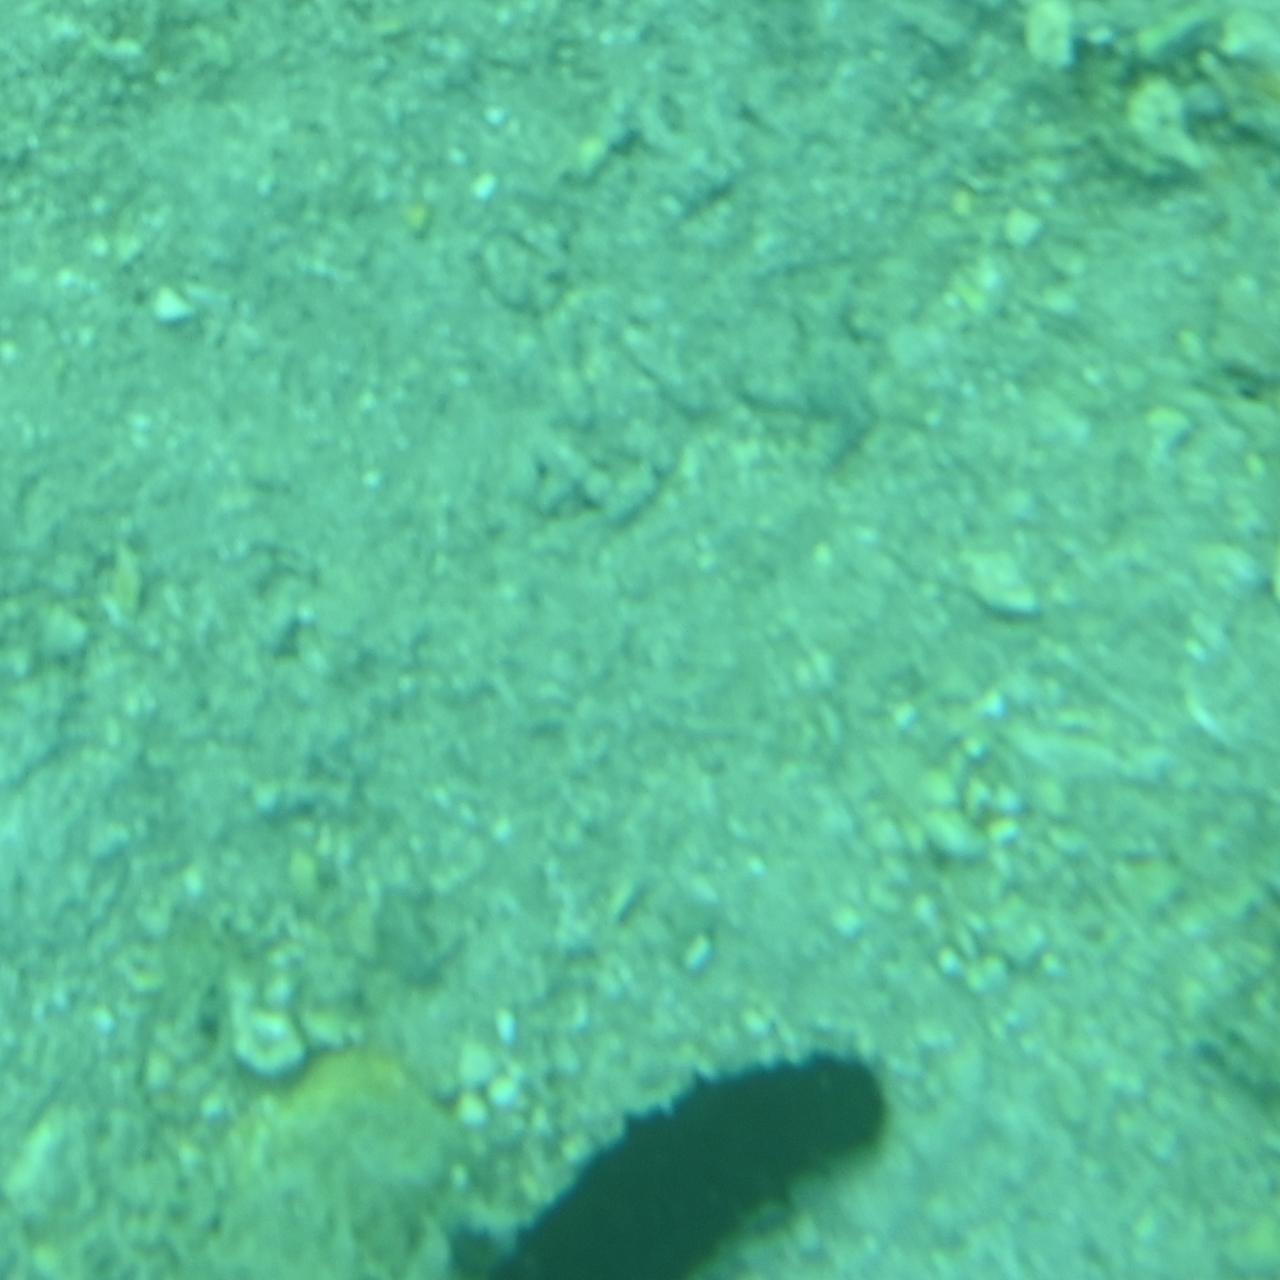Holothuria tubulosa: (375, 1041, 905, 1279)
